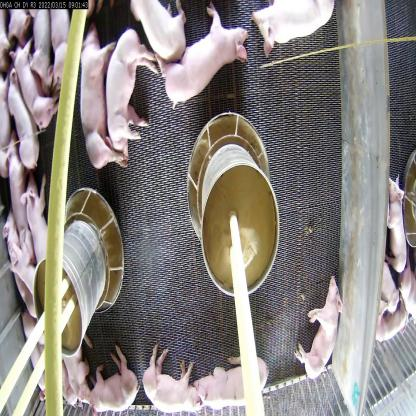Pig: (160, 9, 250, 114), (102, 25, 164, 156), (72, 28, 118, 166), (252, 0, 342, 66), (7, 29, 59, 138), (299, 267, 345, 385), (134, 342, 203, 415), (78, 344, 146, 415), (198, 348, 268, 415), (18, 167, 59, 261), (3, 208, 38, 314), (5, 75, 43, 172), (0, 131, 33, 239), (386, 171, 412, 278), (137, 5, 185, 62)
